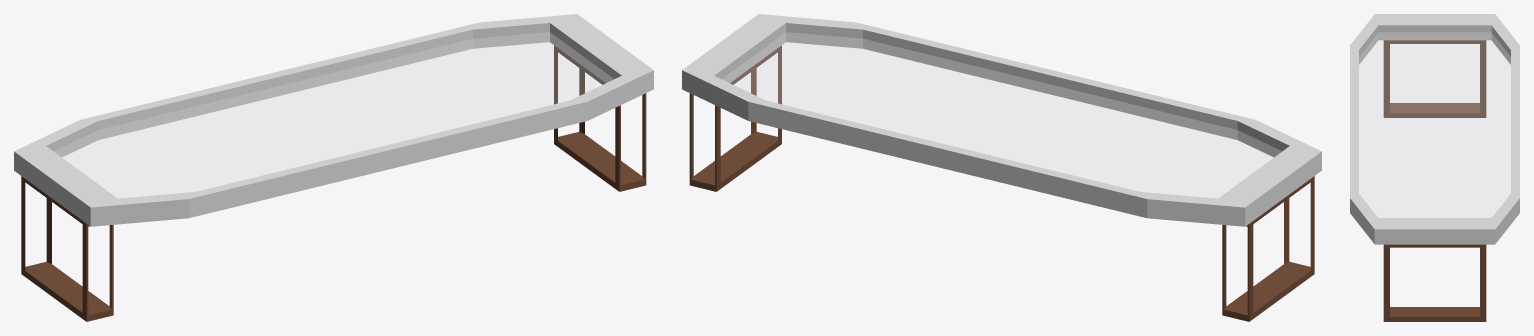
The model's file is Center_Table.fbx.
The picture shows the model from 3 angles, left to right: view 1: azimuth 30°, elevation 25°; view 2: azimuth 150°, elevation 25°; view 3: azimuth 270°, elevation 25°; orthographic projection. The views are drawn at different scales.
Visible parts, largest first — view 1: Center_Table; view 2: Center_Table; view 3: Center_Table.
Part boxes in pixels (x1=…): Center_Table: x1=14, y1=14, x2=653, y2=321; Center_Table: x1=682, y1=14, x2=1321, y2=321; Center_Table: x1=1350, y1=14, x2=1519, y2=321.
Bounding box in the file's own units: 246 × 49.56 × 81.83.
